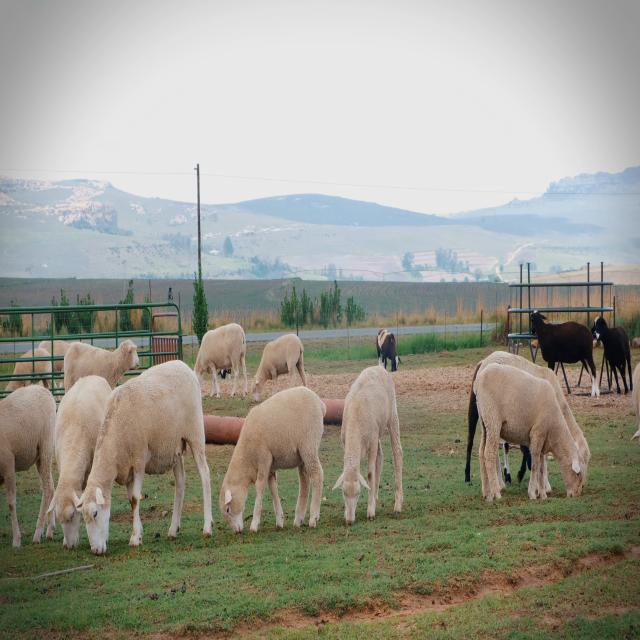sheep: (82, 325, 220, 564), (469, 348, 590, 528), (218, 362, 333, 551), (334, 348, 417, 533), (42, 374, 84, 565), (58, 326, 152, 399), (248, 328, 318, 408)
